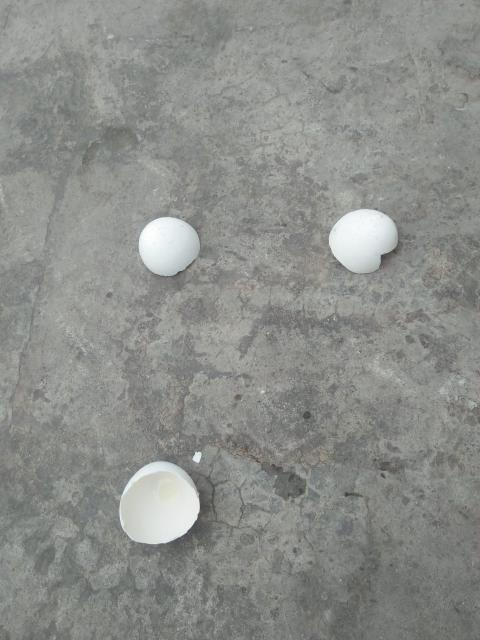Roto: (118, 461, 201, 545), (328, 208, 398, 274), (138, 216, 200, 277)
